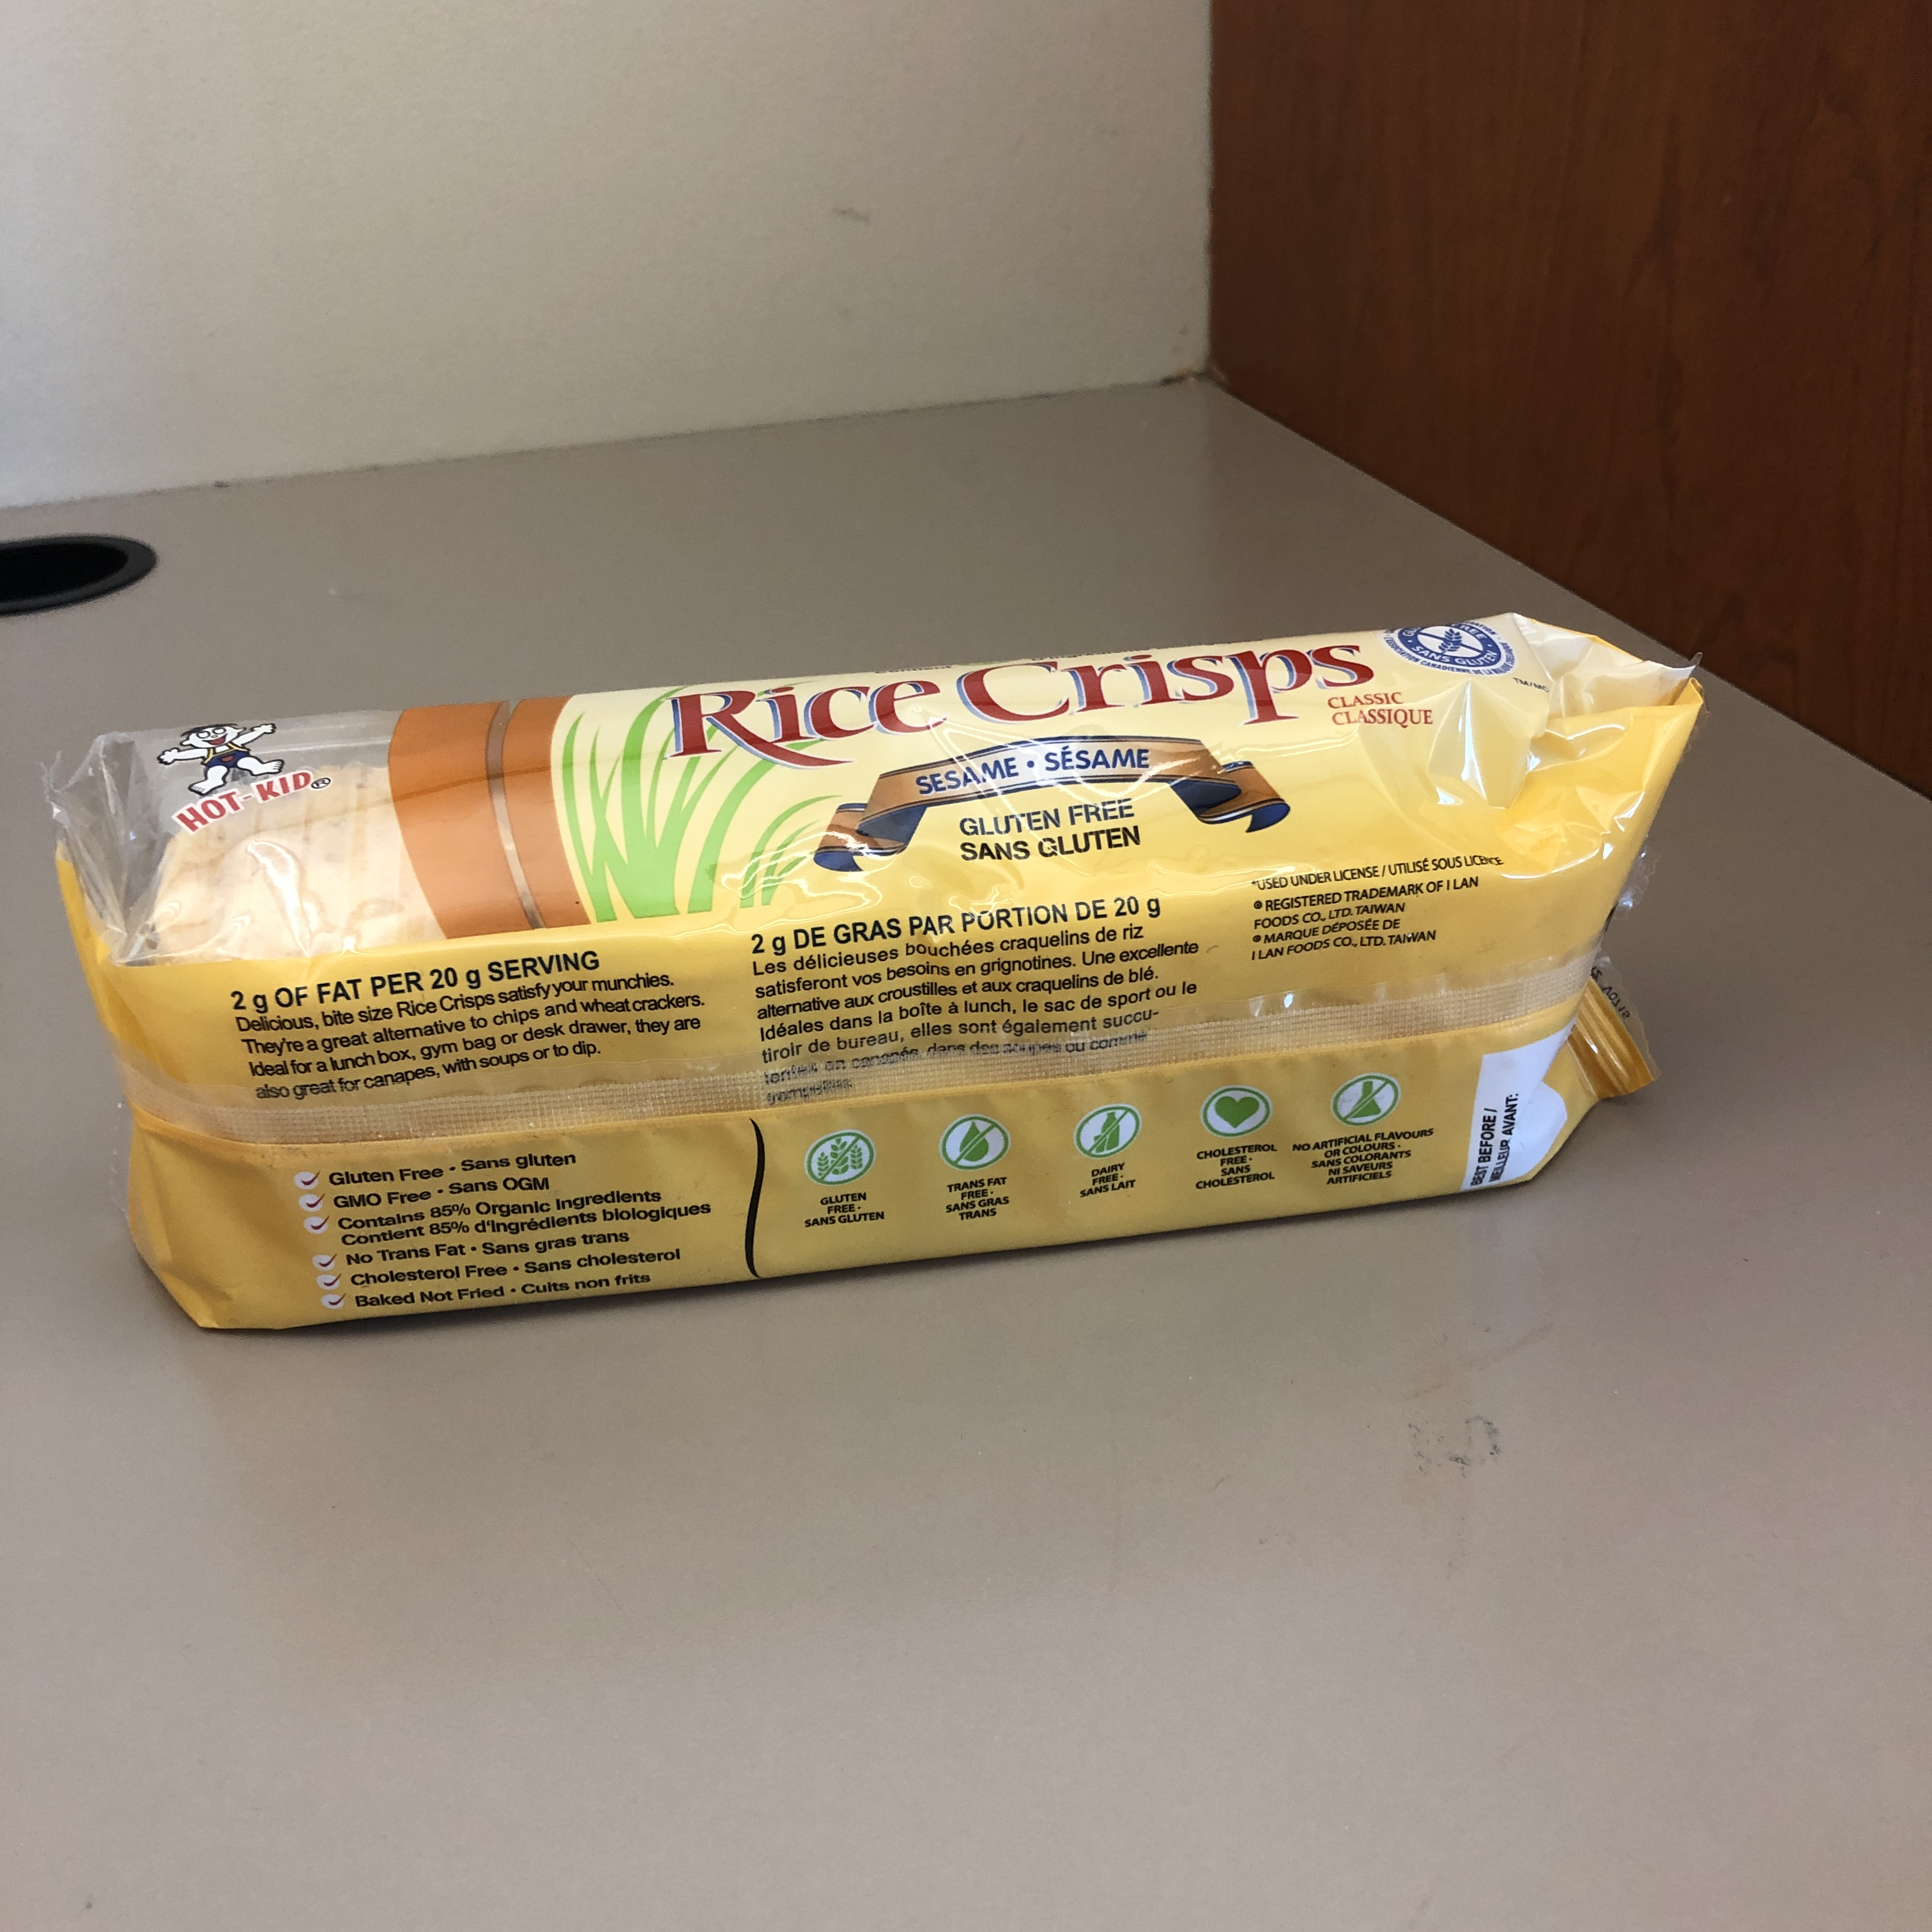hot_kid_rice_crisps_sesame: (621, 317, 1287, 1769)
